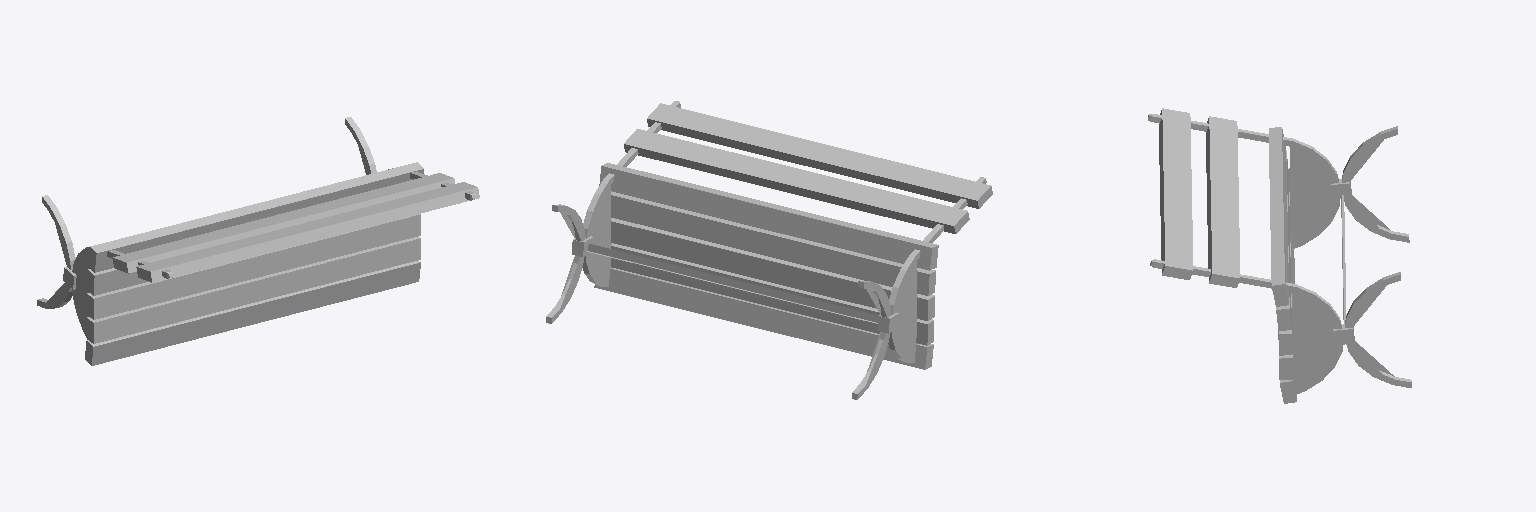
File: Porsche_911_GT3.obj
3 renders of one model, left to right at view 1: azimuth 30°, elevation 25°; view 2: azimuth 150°, elevation 25°; view 3: azimuth 270°, elevation 25°, orthographic.
Visible parts, largest first — view 1: Bench_Wood_Park:Mesh2 Bench_Wood_Park:Model Bench_Wood_Park:boar, Bench_Wood_Park:Mesh3 Bench_Wood_Park:Model Bench_Wood_Park:boar, Bench_Wood_Park:Mesh1 Bench_Wood_Park:Model Bench_Wood_Park:boar, Bench_Wood_Park:Mesh9 Bench_Wood_Park:Model Bench_Wood_Park:boar, Bench_Wood_Park:Mesh5 Bench_Wood_Park:Model Bench_Wood_Park:boar, Bench_Wood_Park:Mesh6 Bench_Wood_Park:Model Bench_Wood_Park:boar, Bench_Wood_Park:Mesh10 Bench_Wood_Park:Model Bench_Wood_Park:cur, Bench_Wood_Park:Mesh11 Bench_Wood_Park:Model Bench_Wood_Park:cur, Bench_Wood_Park:Mesh4 Bench_Wood_Park:Model Bench_Wood_Park:boar, Bench_Wood_Park:Mesh7 Bench_Wood_Park:Model Bench_Wood_Park:curv; view 2: Bench_Wood_Park:Mesh5 Bench_Wood_Park:Model Bench_Wood_Park:boar, Bench_Wood_Park:Mesh9 Bench_Wood_Park:Model Bench_Wood_Park:boar, Bench_Wood_Park:Mesh6 Bench_Wood_Park:Model Bench_Wood_Park:boar, Bench_Wood_Park:Mesh4 Bench_Wood_Park:Model Bench_Wood_Park:boar, Bench_Wood_Park:Mesh1 Bench_Wood_Park:Model Bench_Wood_Park:boar, Bench_Wood_Park:Mesh3 Bench_Wood_Park:Model Bench_Wood_Park:boar, Bench_Wood_Park:Mesh2 Bench_Wood_Park:Model Bench_Wood_Park:boar, Bench_Wood_Park:Mesh11 Bench_Wood_Park:Model Bench_Wood_Park:cur, Bench_Wood_Park:Mesh8 Bench_Wood_Park:Model Bench_Wood_Park:curv, Bench_Wood_Park:Mesh14 Bench_Wood_Park:Model Bench_Wood_Park:pol, Bench_Wood_Park:Mesh10 Bench_Wood_Park:Model Bench_Wood_Park:cur, Bench_Wood_Park:Mesh7 Bench_Wood_Park:Model Bench_Wood_Park:curv; view 3: Bench_Wood_Park:Mesh6 Bench_Wood_Park:Model Bench_Wood_Park:boar, Bench_Wood_Park:Mesh9 Bench_Wood_Park:Model Bench_Wood_Park:boar, Bench_Wood_Park:Mesh8 Bench_Wood_Park:Model Bench_Wood_Park:curv, Bench_Wood_Park:Mesh11 Bench_Wood_Park:Model Bench_Wood_Park:cur, Bench_Wood_Park:Mesh5 Bench_Wood_Park:Model Bench_Wood_Park:boar, Bench_Wood_Park:Mesh10 Bench_Wood_Park:Model Bench_Wood_Park:cur, Bench_Wood_Park:Mesh7 Bench_Wood_Park:Model Bench_Wood_Park:curv, Bench_Wood_Park:Mesh4 Bench_Wood_Park:Model Bench_Wood_Park:boar.
Part boxes in pixels (left/top/right/bottom): Bench_Wood_Park:Mesh2 Bench_Wood_Park:Model Bench_Wood_Park:boar: left=87, top=236, right=420, bottom=343; Bench_Wood_Park:Mesh3 Bench_Wood_Park:Model Bench_Wood_Park:boar: left=87, top=214, right=420, bottom=319; Bench_Wood_Park:Mesh1 Bench_Wood_Park:Model Bench_Wood_Park:boar: left=85, top=260, right=420, bottom=365; Bench_Wood_Park:Mesh9 Bench_Wood_Park:Model Bench_Wood_Park:boar: left=136, top=182, right=479, bottom=282; Bench_Wood_Park:Mesh5 Bench_Wood_Park:Model Bench_Wood_Park:boar: left=88, top=162, right=423, bottom=272; Bench_Wood_Park:Mesh6 Bench_Wood_Park:Model Bench_Wood_Park:boar: left=112, top=173, right=454, bottom=273; Bench_Wood_Park:Mesh10 Bench_Wood_Park:Model Bench_Wood_Park:cur: left=37, top=195, right=75, bottom=308; Bench_Wood_Park:Mesh11 Bench_Wood_Park:Model Bench_Wood_Park:cur: left=72, top=247, right=173, bottom=339; Bench_Wood_Park:Mesh4 Bench_Wood_Park:Model Bench_Wood_Park:boar: left=87, top=268, right=148, bottom=295; Bench_Wood_Park:Mesh7 Bench_Wood_Park:Model Bench_Wood_Park:curv: left=345, top=117, right=376, bottom=174; Bench_Wood_Park:Mesh5 Bench_Wood_Park:Model Bench_Wood_Park:boar: left=599, top=163, right=938, bottom=270; Bench_Wood_Park:Mesh9 Bench_Wood_Park:Model Bench_Wood_Park:boar: left=647, top=103, right=992, bottom=208; Bench_Wood_Park:Mesh6 Bench_Wood_Park:Model Bench_Wood_Park:boar: left=624, top=129, right=969, bottom=233; Bench_Wood_Park:Mesh4 Bench_Wood_Park:Model Bench_Wood_Park:boar: left=611, top=191, right=935, bottom=295; Bench_Wood_Park:Mesh1 Bench_Wood_Park:Model Bench_Wood_Park:boar: left=594, top=268, right=933, bottom=369; Bench_Wood_Park:Mesh3 Bench_Wood_Park:Model Bench_Wood_Park:boar: left=611, top=218, right=934, bottom=320; Bench_Wood_Park:Mesh2 Bench_Wood_Park:Model Bench_Wood_Park:boar: left=611, top=243, right=933, bottom=345; Bench_Wood_Park:Mesh11 Bench_Wood_Park:Model Bench_Wood_Park:cur: left=888, top=177, right=986, bottom=363; Bench_Wood_Park:Mesh8 Bench_Wood_Park:Model Bench_Wood_Park:curv: left=582, top=101, right=680, bottom=286; Bench_Wood_Park:Mesh14 Bench_Wood_Park:Model Bench_Wood_Park:pol: left=587, top=244, right=877, bottom=323; Bench_Wood_Park:Mesh10 Bench_Wood_Park:Model Bench_Wood_Park:cur: left=852, top=281, right=890, bottom=399; Bench_Wood_Park:Mesh7 Bench_Wood_Park:Model Bench_Wood_Park:curv: left=546, top=204, right=584, bottom=323; Bench_Wood_Park:Mesh6 Bench_Wood_Park:Model Bench_Wood_Park:boar: left=1206, top=116, right=1239, bottom=287; Bench_Wood_Park:Mesh9 Bench_Wood_Park:Model Bench_Wood_Park:boar: left=1159, top=108, right=1192, bottom=279; Bench_Wood_Park:Mesh8 Bench_Wood_Park:Model Bench_Wood_Park:curv: left=1150, top=259, right=1342, bottom=394; Bench_Wood_Park:Mesh11 Bench_Wood_Park:Model Bench_Wood_Park:cur: left=1148, top=114, right=1339, bottom=248; Bench_Wood_Park:Mesh5 Bench_Wood_Park:Model Bench_Wood_Park:boar: left=1269, top=127, right=1288, bottom=306; Bench_Wood_Park:Mesh10 Bench_Wood_Park:Model Bench_Wood_Park:cur: left=1342, top=126, right=1409, bottom=242; Bench_Wood_Park:Mesh7 Bench_Wood_Park:Model Bench_Wood_Park:curv: left=1345, top=272, right=1411, bottom=387; Bench_Wood_Park:Mesh4 Bench_Wood_Park:Model Bench_Wood_Park:boar: left=1276, top=151, right=1291, bottom=330.
Size of the model in its own units: 3363 by 1373 by 2337.